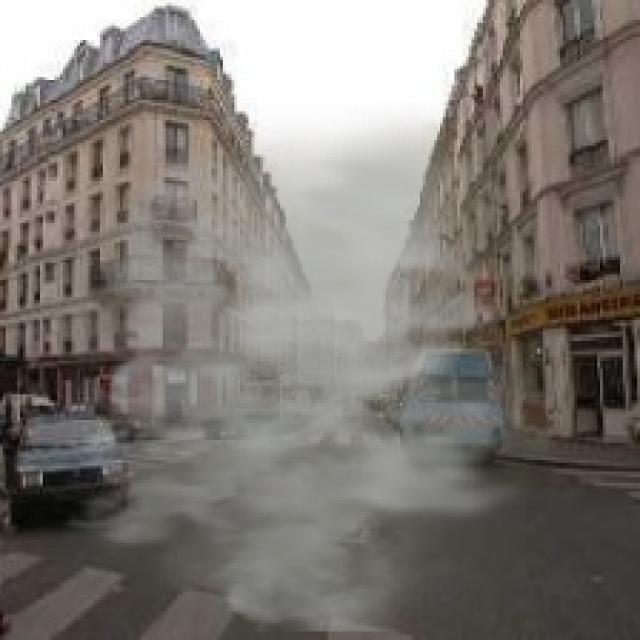smoke: (14, 103, 552, 631)
